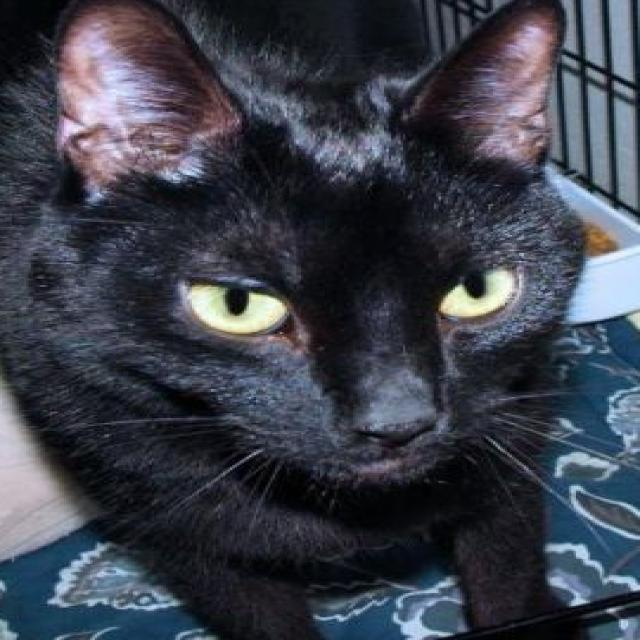Bombay: (0, 0, 590, 640)
